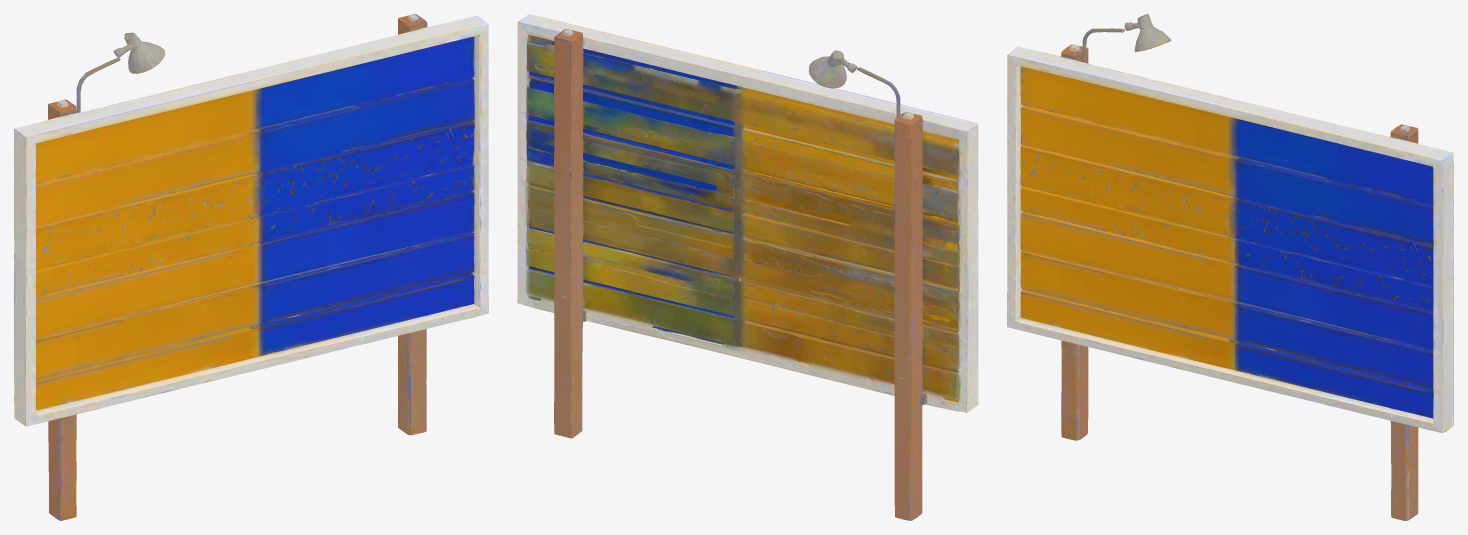
Rendered from billboard-low.glb.
The picture shows the model from 3 angles, left to right: view 1: azimuth 30°, elevation 25°; view 2: azimuth 150°, elevation 25°; view 3: azimuth 330°, elevation 25°; orthographic projection. The views are drawn at different scales.
Visible parts, largest first — view 1: geometry_0; view 2: geometry_0; view 3: geometry_0.
Boxes of the visible parts, x1,y1,x2,y2 form: geometry_0: (14, 14, 488, 520); geometry_0: (517, 14, 978, 520); geometry_0: (1007, 14, 1453, 520).
Bounding box in the file's own units: 1 × 0.9539 × 0.1055.
1 material, 1 textured.
